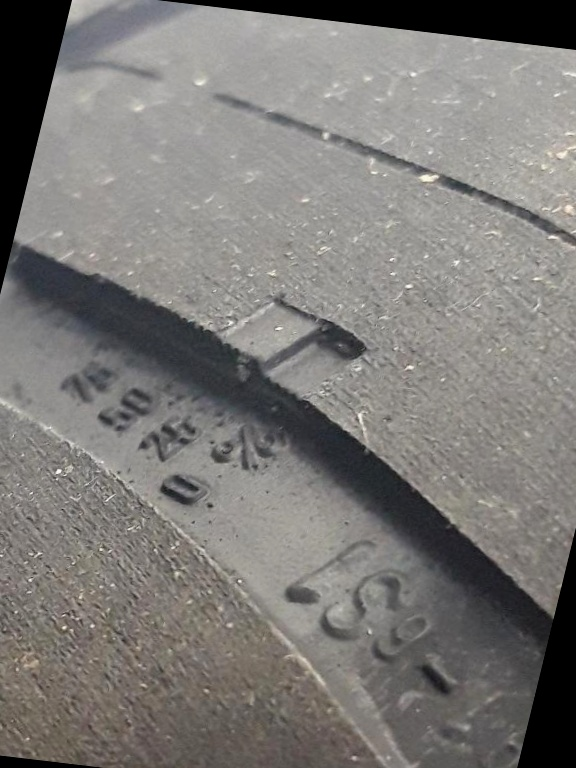temoin:25: (170, 276, 407, 449)
